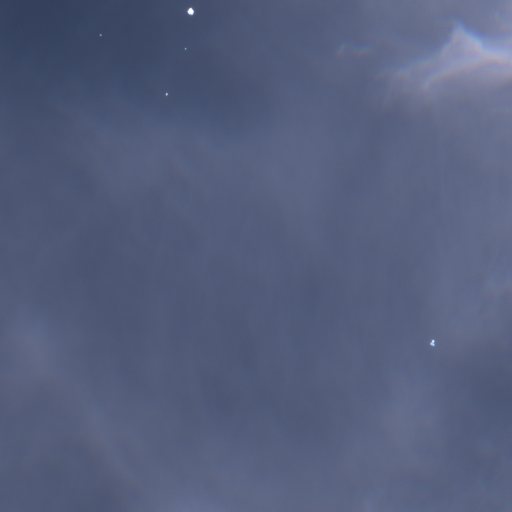Iceberg: (187, 7, 193, 15), (430, 339, 434, 346), (165, 92, 167, 95), (99, 34, 101, 36), (184, 47, 186, 49)
